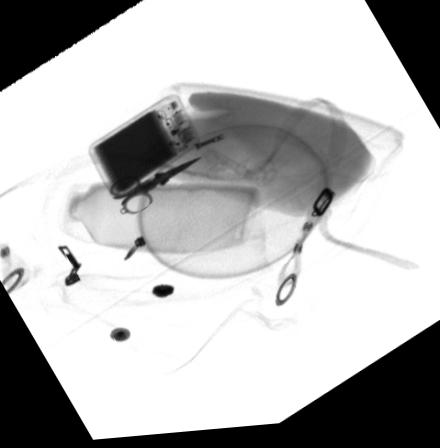Powerbank: (87, 95, 200, 201)
Scissors: (107, 160, 206, 219)
